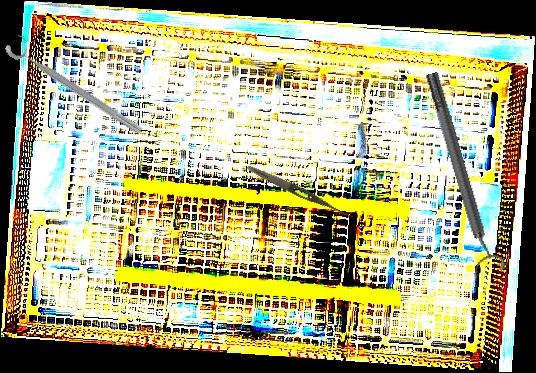Dressing Forceps: (245, 162, 356, 222)
Fixation Ring: (416, 68, 508, 278), (3, 30, 150, 139)
